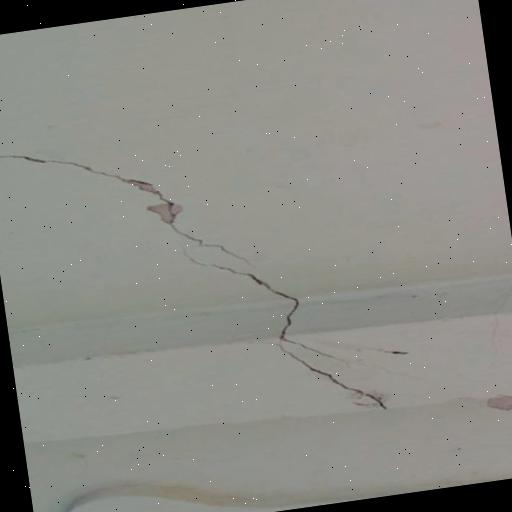spalling: (0, 146, 255, 265), (205, 272, 394, 411)
